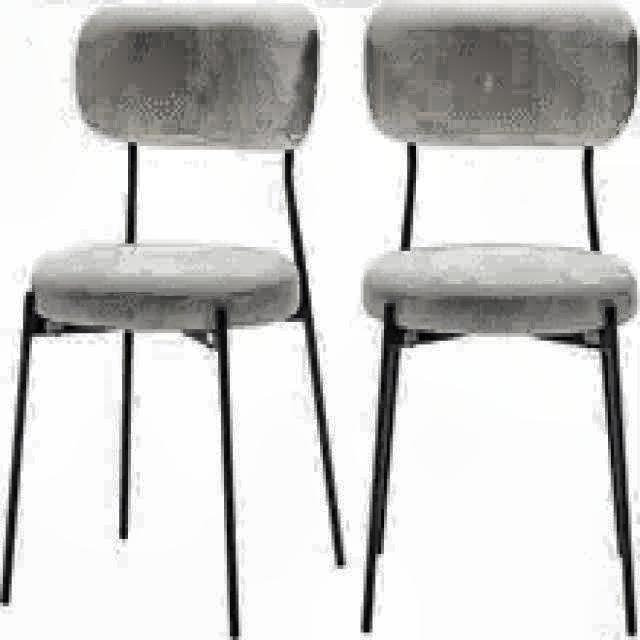cadeira: (0, 0, 345, 640), (359, 0, 640, 637), (29, 6, 344, 331), (362, 0, 640, 337)
